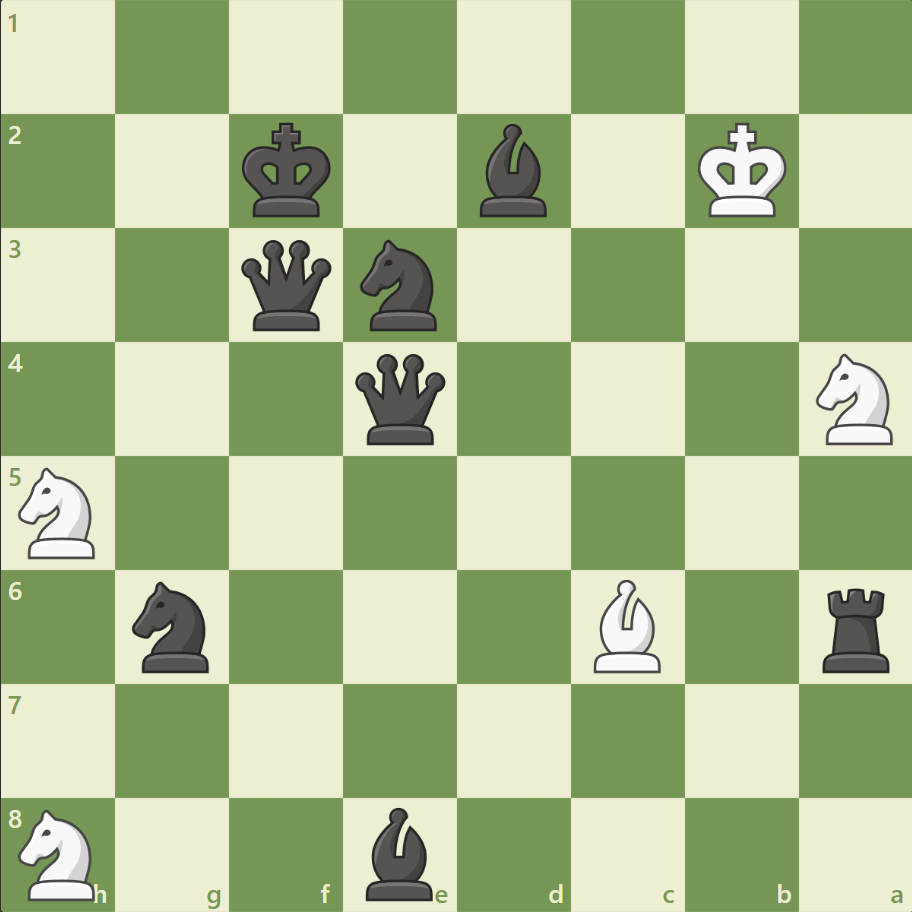B: (585, 574, 669, 676)
K: (692, 117, 792, 225)
N: (11, 461, 108, 564), (11, 802, 108, 904), (806, 348, 903, 450)
b: (358, 801, 442, 904), (471, 120, 555, 222)
k: (238, 117, 338, 225)
n: (351, 234, 449, 337), (124, 575, 222, 677)
q: (351, 349, 450, 449), (237, 236, 336, 335)
r: (814, 579, 897, 676)
